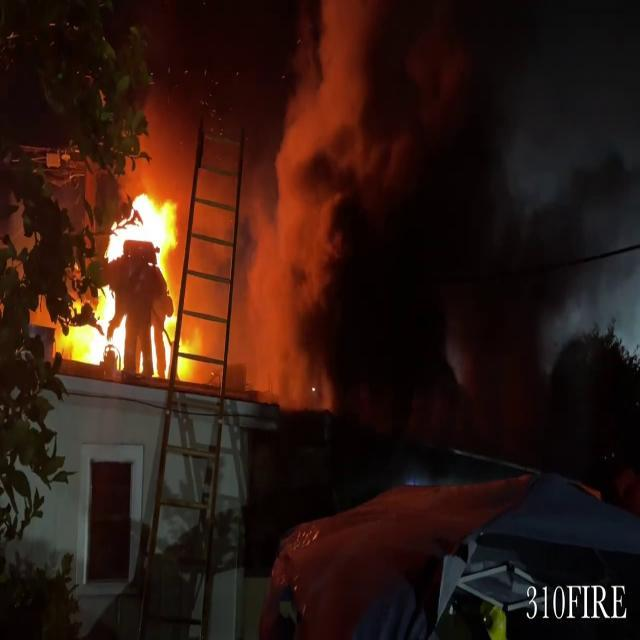Fire: (60, 182, 210, 380)
Smoke: (215, 0, 640, 425)
